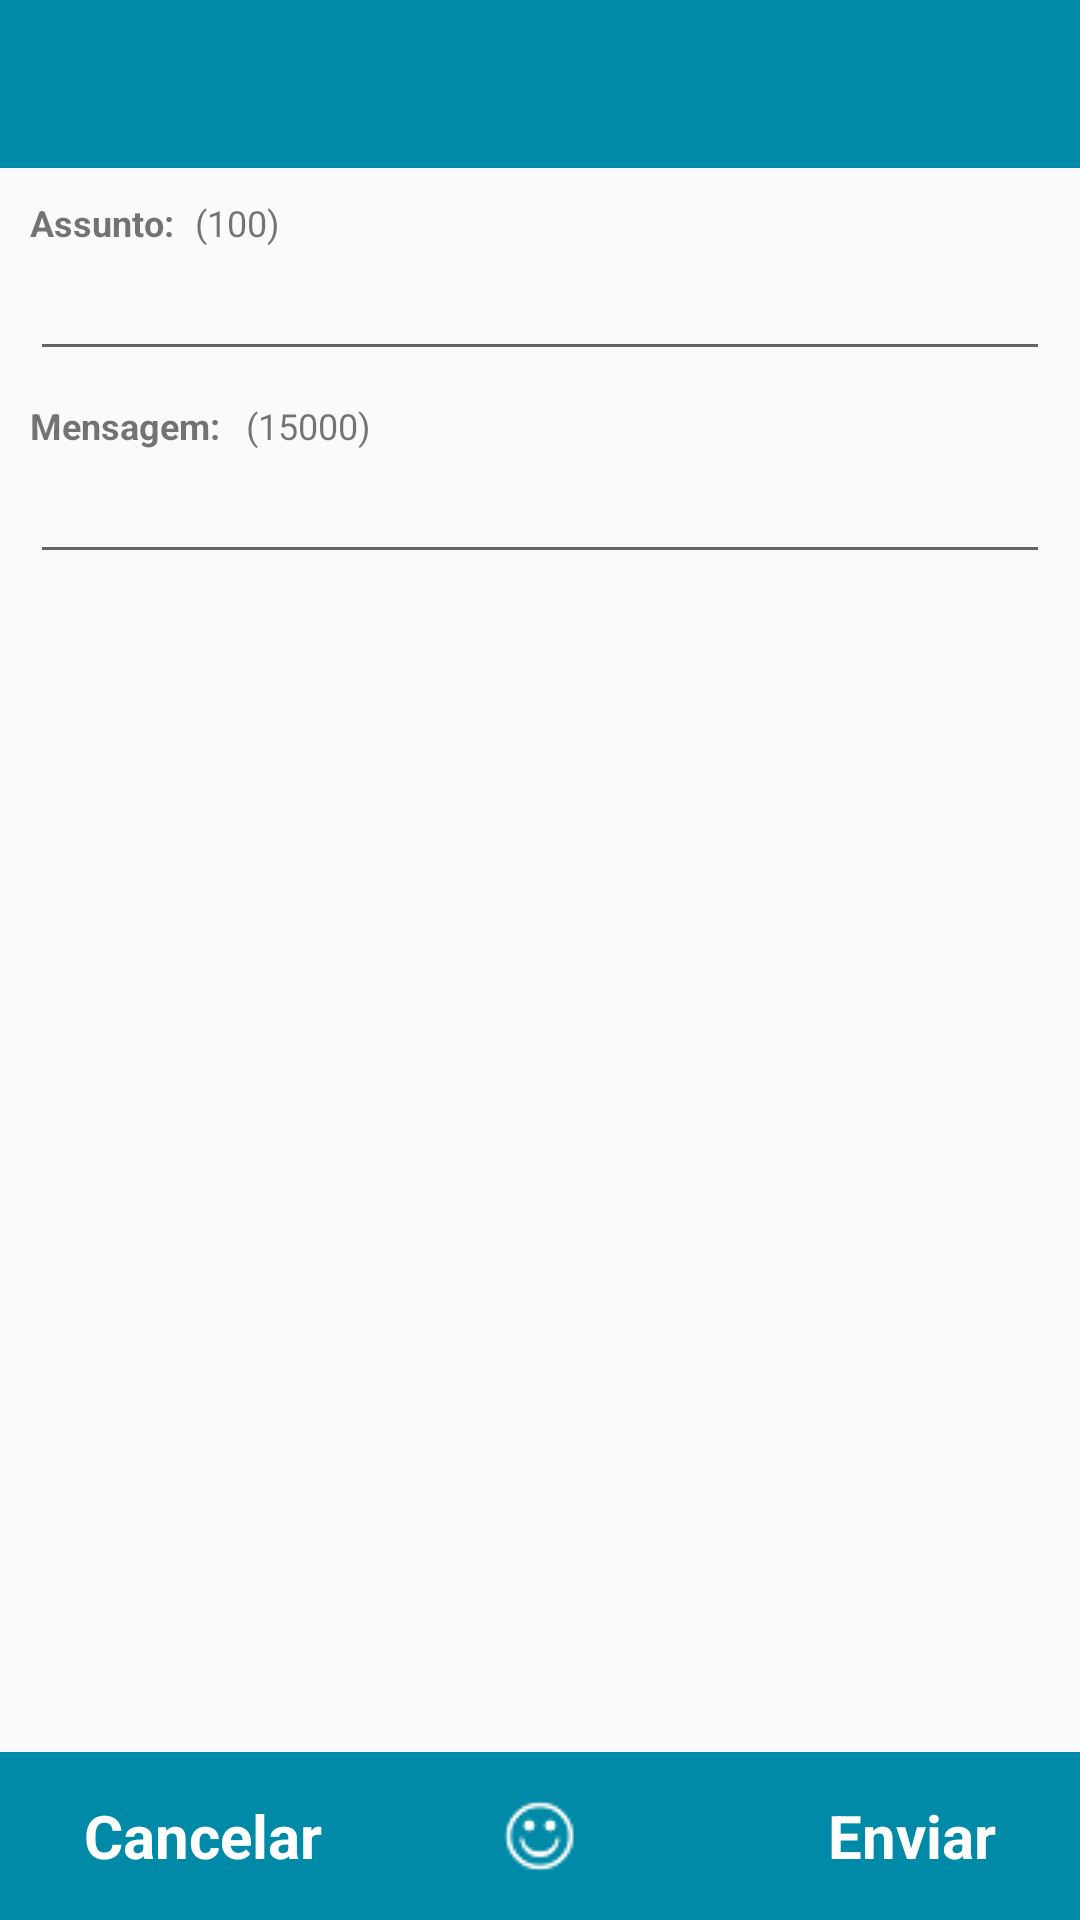

Where to tap for icons on this 1080x1920 app screen, as [x,y]:
emoticon: [539,1836]
